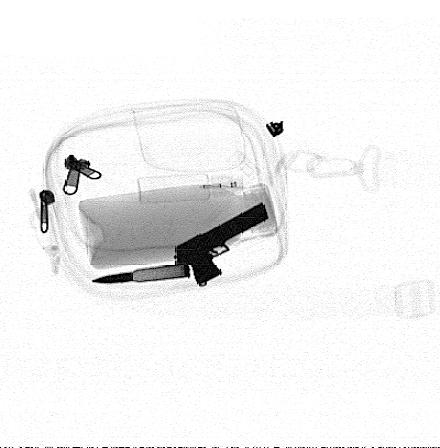Bullet: (89, 262, 191, 284)
Gun: (175, 201, 268, 286)
